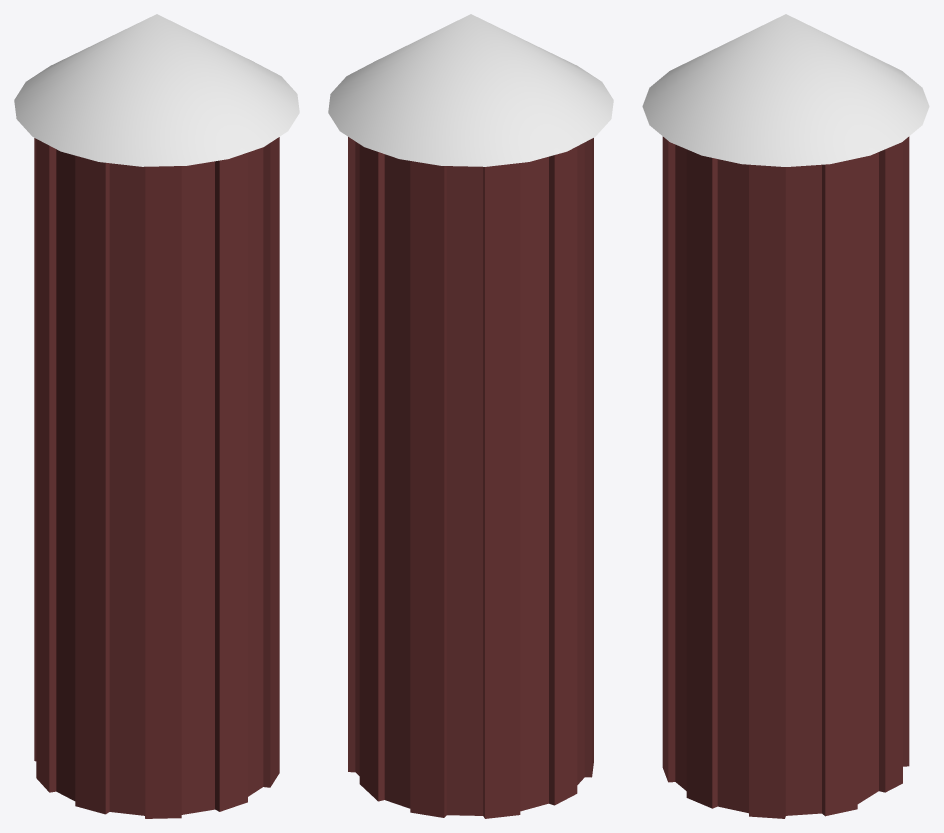
Rendered from silo_emma_tack.fbx.
3 renders of one model, left to right at view 1: azimuth 30°, elevation 25°; view 2: azimuth 150°, elevation 25°; view 3: azimuth 270°, elevation 25°, orthographic.
Parts seen in each view (by area): view 1: pCone2; view 2: pCone2; view 3: pCone2.
Boxes of the visible parts, x1=… form: pCone2: x1=14, y1=14, x2=299, y2=818; pCone2: x1=328, y1=14, x2=613, y2=818; pCone2: x1=642, y1=14, x2=929, y2=818.
Size of the model in its own units: 5.07 by 14.68 by 5.07.
